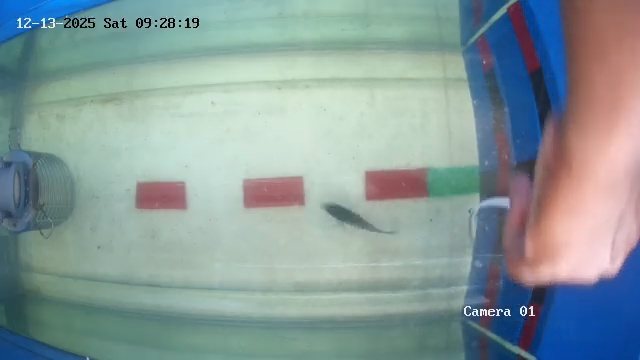fish: (332, 207, 412, 233)
